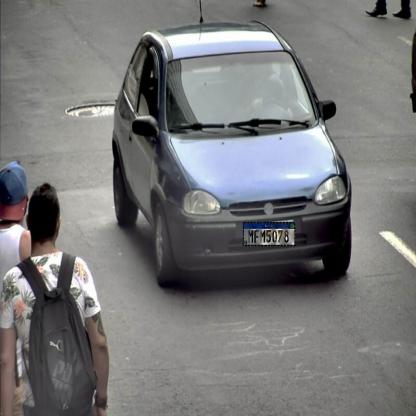PlacaM: (243, 222, 295, 246)
